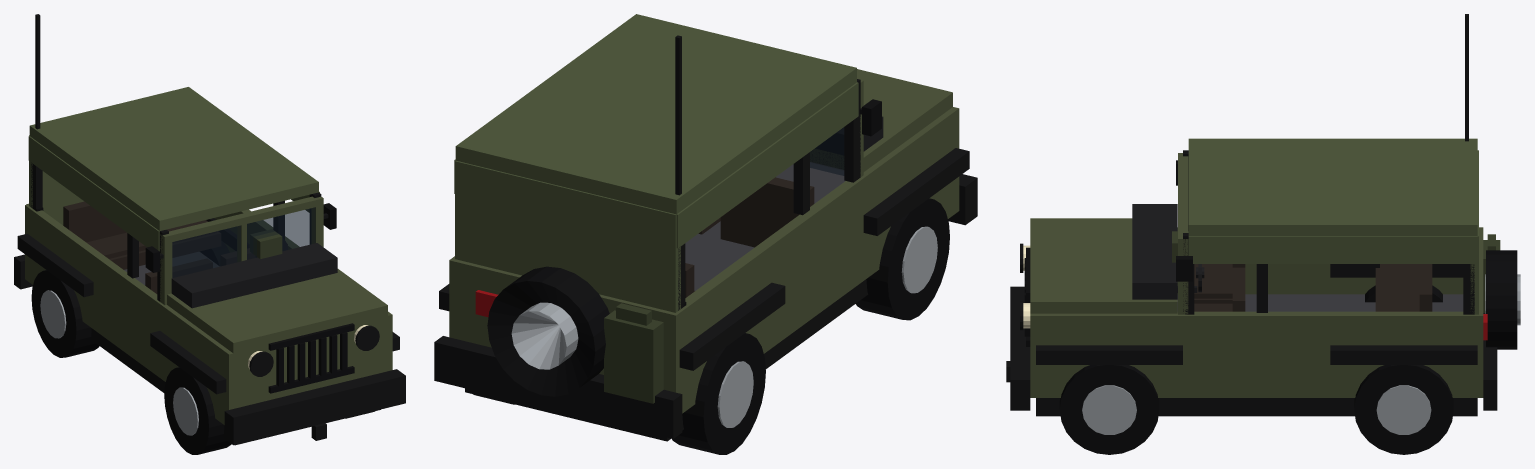
The model's file is jip.glb.
3 views of the same model, side by side, from view 1: azimuth 30°, elevation 25°; view 2: azimuth 150°, elevation 25°; view 3: azimuth 270°, elevation 25° (orthographic). The views are drawn at different scales.
Visible parts, largest first — view 1: CanvasRoof, TubSide_L, Hood, Bumper_F, Dash, TubFront, Windshield, Seat_Rear, CanvasEdge_L, Wheel_RL, Wheel_FL, WSFrameTop (+21 smaller); view 2: CanvasRoof, CanvasRear, TubSide_L, SpareTire, Bumper_R, CanvasEdge_L, Wheel_FL, Wheel_RL, Hood, Jerrycan, TubRear, Seat_FL (+17 smaller); view 3: CanvasRoof, TubSide_R, Hood, CanvasEdge_R, Wheel_RR, Wheel_FR, Chassis, Dash, TubSide_L, TubFloor, SpareTire, Fender_RR (+17 smaller).
Boxes of the visible parts, x1=… form: CanvasRoof: x1=29, y1=87, x2=318, y2=230; TubSide_L: x1=25, y1=204, x2=236, y2=413; Hood: x1=167, y1=269, x2=387, y2=353; Bumper_F: x1=224, y1=369, x2=405, y2=445; Dash: x1=171, y1=243, x2=337, y2=308; TubFront: x1=224, y1=312, x2=392, y2=410; Windshield: x1=172, y1=207, x2=315, y2=277; Seat_Rear: x1=63, y1=201, x2=220, y2=269; CanvasEdge_L: x1=28, y1=136, x2=159, y2=251; Wheel_RL: x1=31, y1=270, x2=99, y2=357; Wheel_FL: x1=164, y1=367, x2=231, y2=454; WSFrameTop: x1=160, y1=197, x2=323, y2=242; CanvasRoof: x1=455, y1=14, x2=856, y2=214; CanvasRear: x1=455, y1=160, x2=680, y2=312; TubSide_L: x1=665, y1=107, x2=959, y2=397; SpareTire: x1=487, y1=266, x2=609, y2=396; Bumper_R: x1=434, y1=336, x2=682, y2=438; CanvasEdge_L: x1=676, y1=82, x2=858, y2=248; Wheel_FL: x1=856, y1=198, x2=949, y2=320; Wheel_RL: x1=672, y1=333, x2=765, y2=454; Hood: x1=810, y1=69, x2=952, y2=171; Jerrycan: x1=604, y1=310, x2=663, y2=403; TubRear: x1=449, y1=260, x2=681, y2=391; Seat_FL: x1=720, y1=177, x2=814, y2=247; CanvasRoof: x1=1188, y1=138, x2=1477, y2=236; TubSide_R: x1=1030, y1=311, x2=1483, y2=385; Hood: x1=1030, y1=218, x2=1177, y2=313; CanvasEdge_R: x1=1188, y1=236, x2=1477, y2=263; Wheel_RR: x1=1354, y1=365, x2=1453, y2=454; Wheel_FR: x1=1059, y1=365, x2=1159, y2=454; Chassis: x1=1036, y1=398, x2=1477, y2=416; Dash: x1=1132, y1=204, x2=1177, y2=299; TubSide_L: x1=1177, y1=227, x2=1483, y2=294; TubFloor: x1=1030, y1=385, x2=1483, y2=397; SpareTire: x1=1486, y1=250, x2=1517, y2=349; Fender_RR: x1=1330, y1=345, x2=1477, y2=364.
Size of the model in its own units: 0.83 by 1.37 by 1.82.
